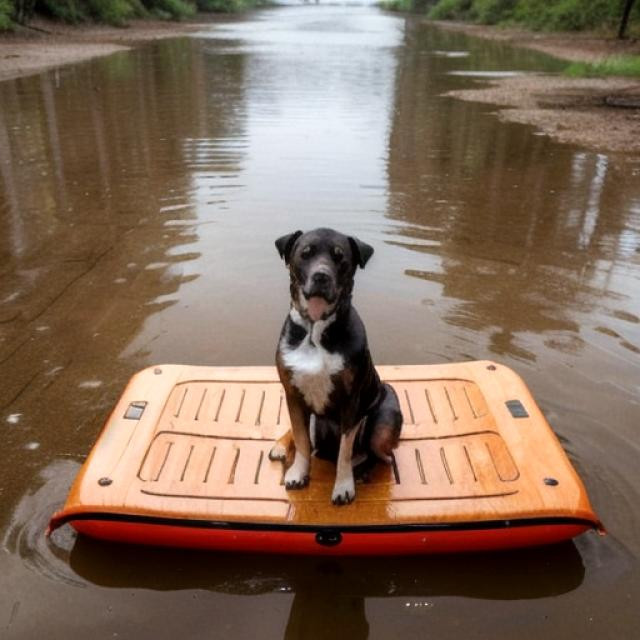dog: (254, 224, 418, 505)
